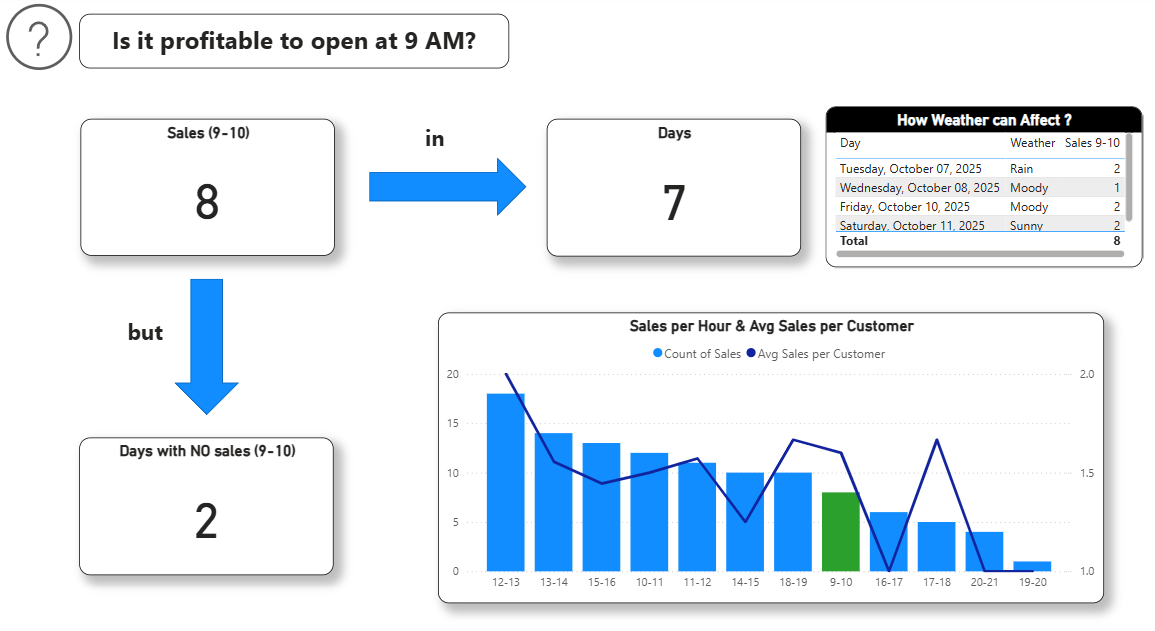

What the dashboard file says about the page in this screenshot:
{"tool":"powerbi","page":{"name":"Does it worth it? ","canvas":[1280,720],"ordinal":4},"visuals":[{"type":"actionButton","box":[0,0,90.5,91.7],"z":0},{"type":"textbox","box":[89.8,20,471.8,59.9],"z":1000},{"type":"card","title":"Sales (9-10)","fields":{"Values":["CountNonNull(retail v_sales_fct.sales_id)"]},"box":[90.5,135.7,278.8,150.4],"z":2000},{"type":"card","title":"Days","fields":{"Values":["Count(retail v_sales_fct.day)"]},"box":[602.9,135.4,279.4,151.1],"z":3000},{"type":"shape","box":[193.9,312.2,71.3,149.7],"z":4000},{"type":"textbox","box":[463.3,135.4,61.3,42.8],"z":5000},{"type":"card","title":"Days with NO sales (9-10)","fields":{"Values":["retail v_sales_fct.DaysWithNoSales_9to10"]},"box":[89.8,486.1,279.4,151.1],"z":6000},{"type":"shape","box":[407.7,178.2,172.5,64.1],"z":7000},{"type":"textbox","box":[136.8,349.2,57,48.5],"z":8000},{"type":"tableEx","title":"How Weather can Affect ? ","fields":{"Values":["retail v_sales_fct.day","retail v_sales_fct.weather","retail v_sales_fct.Sales_9to10"]},"box":[908,122.6,347.8,176.7],"z":9000},{"type":"lineClusteredColumnComboChart","title":"Sales per Hour & Avg Sales per Customer ","fields":{"Category":["retail v_sales_fct.time_range"],"Y":["CountNonNull(retail v_sales_fct.sales_id)"],"Y2":["retail v_sales_fct.Avg Sales per Customer"]},"box":[483.2,349.2,731.2,319.3],"z":10000}]}

Visuals, with their boxes in screenshot pixels (x1, y1, x2, y2), scaled from the page's 1280x720 canvas onto the 1155x631 screenshot:
actionButton: <box>0,0,82,80</box>
textbox: <box>81,18,507,70</box>
"Sales (9-10)" card: <box>82,119,333,251</box>
"Days" card: <box>544,119,796,251</box>
shape: <box>175,274,239,405</box>
textbox: <box>418,119,473,156</box>
"Days with NO sales (9-10)" card: <box>81,426,333,558</box>
shape: <box>368,156,524,212</box>
textbox: <box>123,306,175,349</box>
"How Weather can Affect ? " tableEx: <box>819,107,1133,262</box>
"Sales per Hour & Avg Sales per Customer " lineClusteredColumnComboChart: <box>436,306,1096,586</box>
